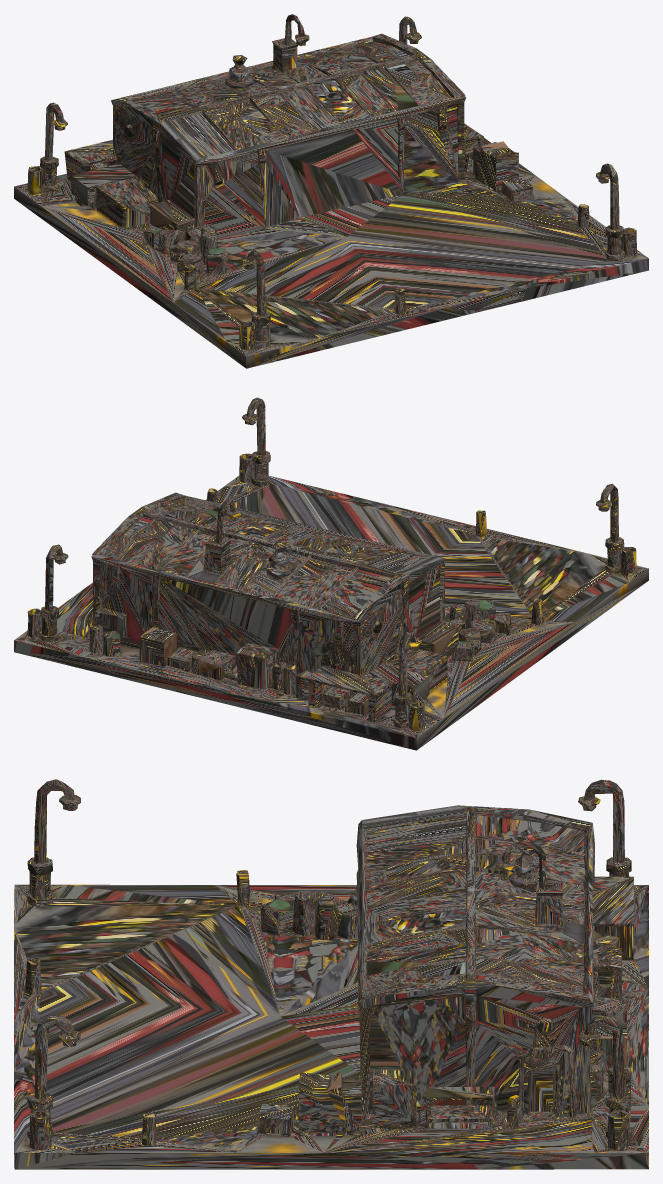
Rendered from truck_depot_bottom_entrance_ne.glb.
3 views of the same model, one above another, from view 1: azimuth 30°, elevation 25°; view 2: azimuth 150°, elevation 25°; view 3: azimuth 270°, elevation 25° (orthographic). The views are drawn at different scales.
Visible parts, largest first — view 1: normalize; view 2: normalize; view 3: normalize.
Part boxes in pixels (left/top/right/bottom): normalize: left=14, top=14, right=648, bottom=368; normalize: left=14, top=397, right=648, bottom=750; normalize: left=14, top=779, right=648, bottom=1169.
Bounding box in the file's own units: 1 × 0.3765 × 1.
1 material, 1 textured.
